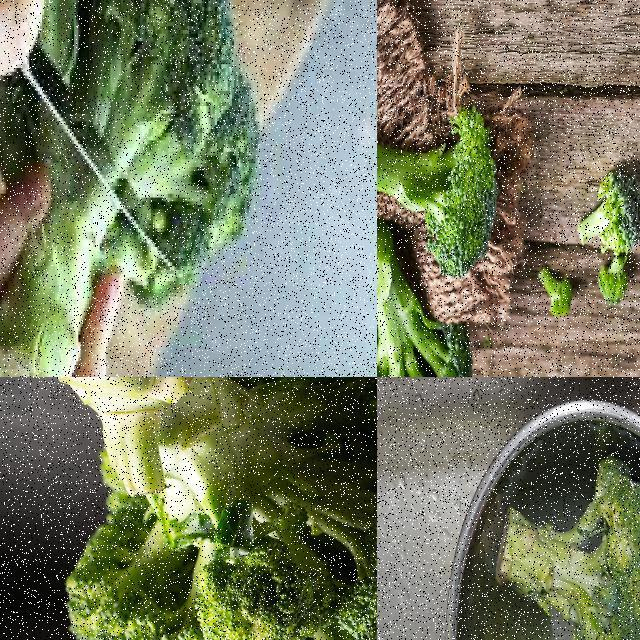broccoli: (0, 0, 263, 376), (45, 377, 376, 639), (495, 446, 639, 639), (377, 95, 506, 285), (377, 224, 475, 376), (577, 156, 639, 256)
